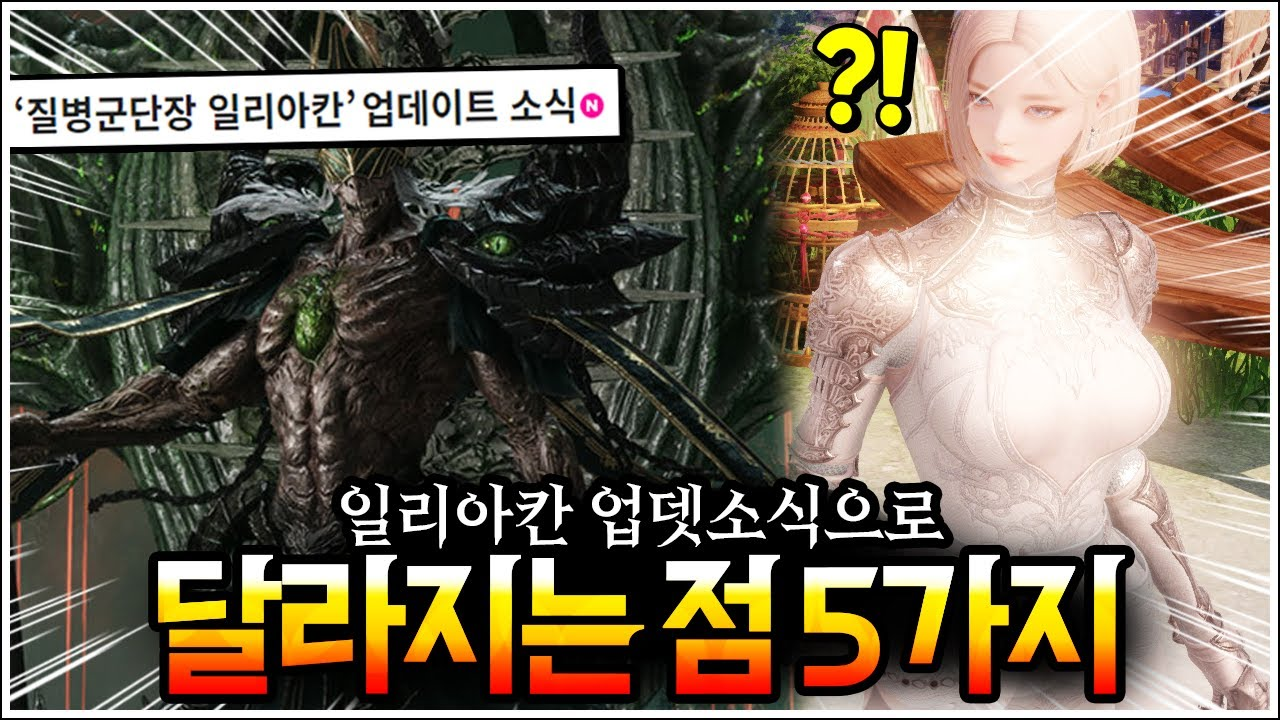5가지: (792, 545, 1134, 704)
달라지는: (146, 549, 646, 699)
업뎃소식으로: (585, 474, 950, 551)
일리아칸: (332, 478, 578, 551)
점: (656, 550, 786, 705)
